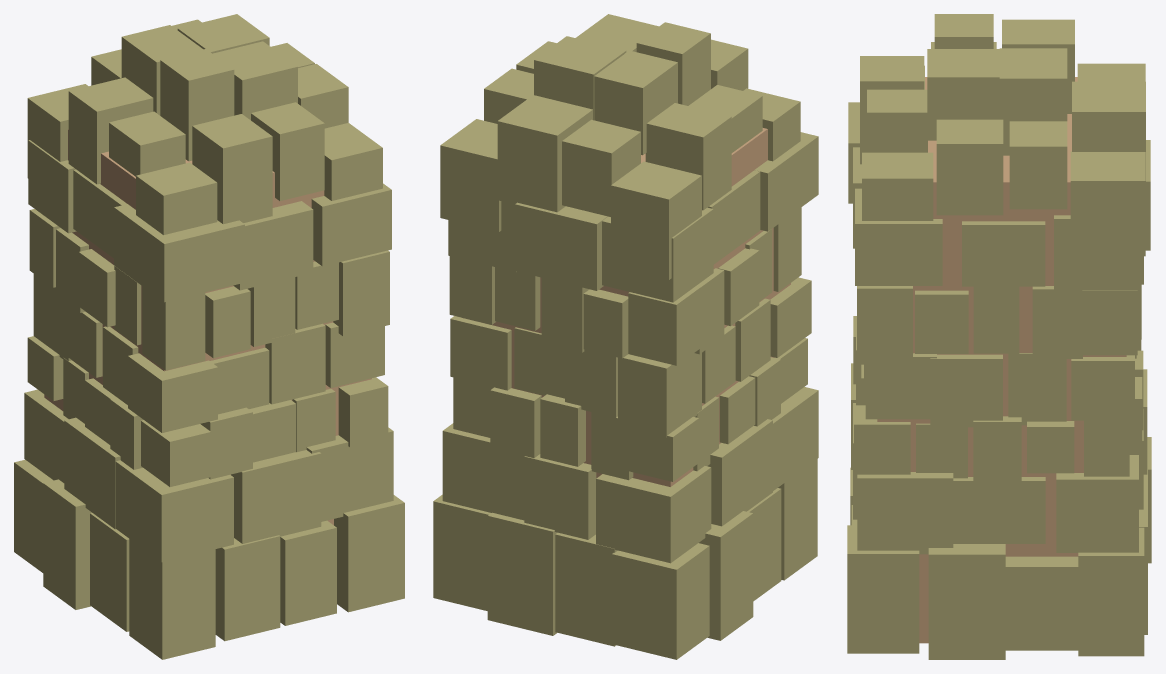
The model's file is Column.fbx.
3 renders of one model, left to right at view 1: azimuth 30°, elevation 25°; view 2: azimuth 150°, elevation 25°; view 3: azimuth 270°, elevation 25°, orthographic. The views are drawn at different scales.
Parts seen in each view (by area): view 1: Column; view 2: Column; view 3: Column.
Boxes of the visible parts, left/top/right/bottom form: Column: left=14, top=14, right=404, bottom=659; Column: left=433, top=14, right=818, bottom=659; Column: left=847, top=14, right=1151, bottom=659.
Bounding box in the file's own units: 336 × 669 × 329.
